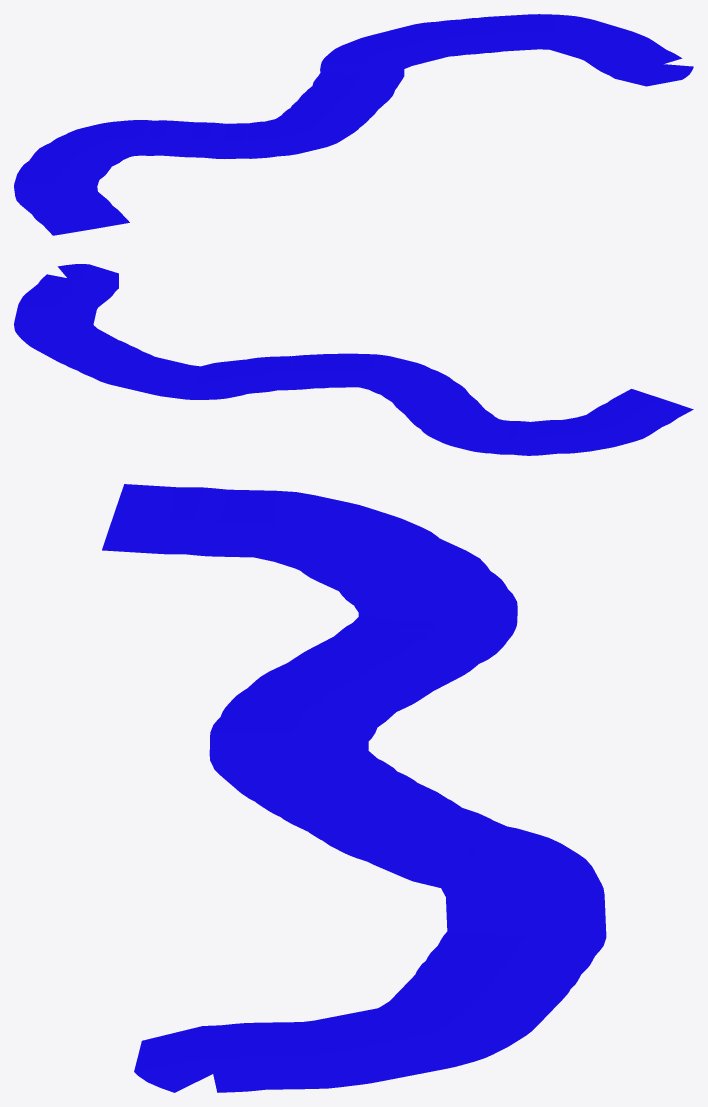
3 views of the same model, one above another, from view 1: azimuth 30°, elevation 25°; view 2: azimuth 150°, elevation 25°; view 3: azimuth 270°, elevation 25° (orthographic). The views are drawn at different scales.
Visible parts, largest first — view 1: GP_Layer; view 2: GP_Layer; view 3: GP_Layer.
Part boxes in pixels (x1,y1,x2,y2): GP_Layer: (14, 14, 693, 235); GP_Layer: (14, 264, 693, 455); GP_Layer: (102, 484, 606, 1092).
Bounding box in the file's own units: 0.1055 × 0.037 × 4.53e-05.
